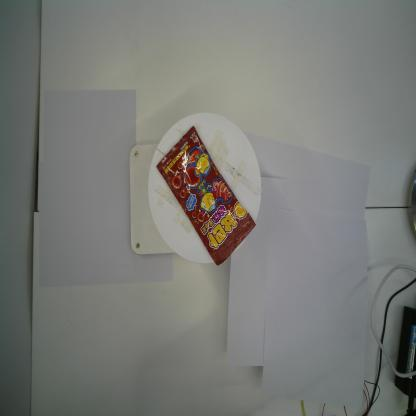Candy: (156, 126, 256, 266)
